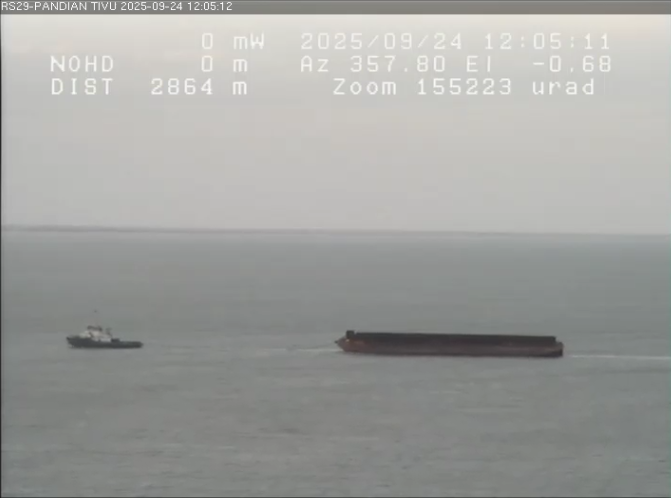BARGE: (317, 306, 576, 375)
OFFSHORE_SUPPLY_VESSEL: (44, 296, 157, 361)
TOWING: (23, 259, 634, 415)
